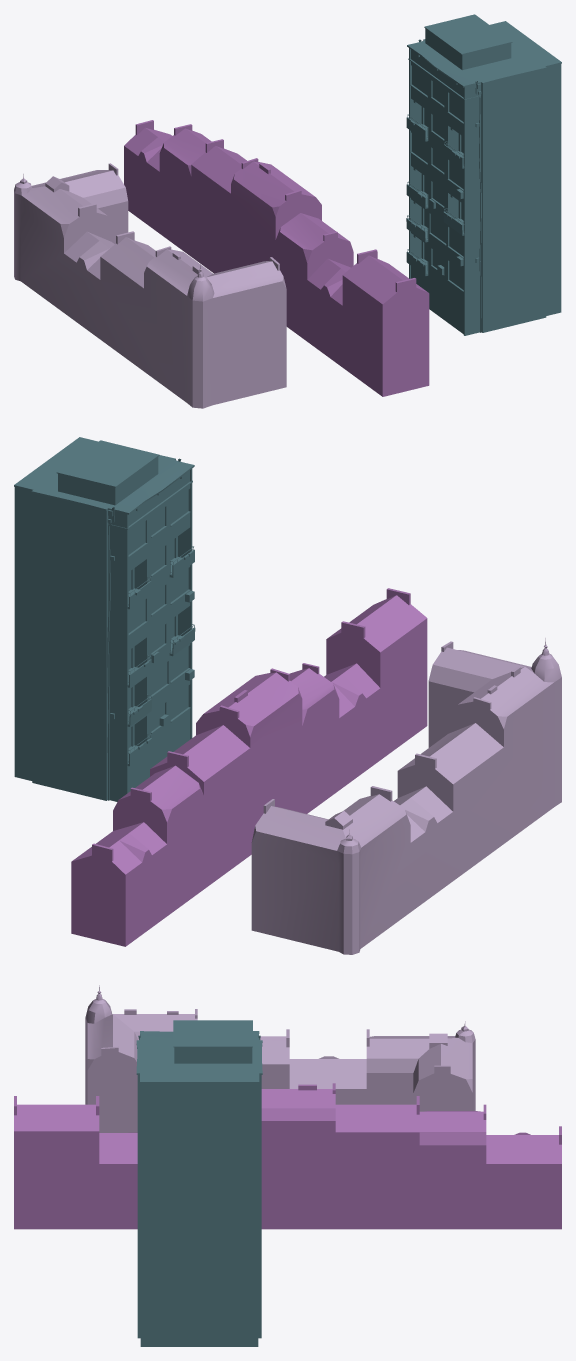
The model's file is buildings.fbx.
3 views of the same model, one above another, from view 1: azimuth 30°, elevation 25°; view 2: azimuth 150°, elevation 25°; view 3: azimuth 270°, elevation 25° (orthographic). The views are drawn at different scales.
Visible parts, largest first — view 1: buildings_HL_ALEX:buildingss2, buildings_HL_ALEX:buildings, buildings_HL_ALEX:buildings2; view 2: buildings_HL_ALEX:buildingss2, buildings_HL_ALEX:buildings2, buildings_HL_ALEX:buildings; view 3: buildings_HL_ALEX:buildings2, buildings_HL_ALEX:buildingss2, buildings_HL_ALEX:buildings.
Part boxes in pixels (x1=…): buildings_HL_ALEX:buildingss2: x1=406, y1=14, x2=561, y2=335; buildings_HL_ALEX:buildings: x1=14, y1=163, x2=286, y2=408; buildings_HL_ALEX:buildings2: x1=124, y1=120, x2=429, y2=396; buildings_HL_ALEX:buildingss2: x1=14, y1=437, x2=195, y2=801; buildings_HL_ALEX:buildings2: x1=71, y1=588, x2=427, y2=946; buildings_HL_ALEX:buildings: x1=251, y1=638, x2=561, y2=954; buildings_HL_ALEX:buildings2: x1=14, y1=1083, x2=561, y2=1229; buildings_HL_ALEX:buildingss2: x1=136, y1=1020, x2=262, y2=1346; buildings_HL_ALEX:buildings: x1=85, y1=985, x2=475, y2=1132.
Size of the model in its own units: 106 by 68.67 by 120.
